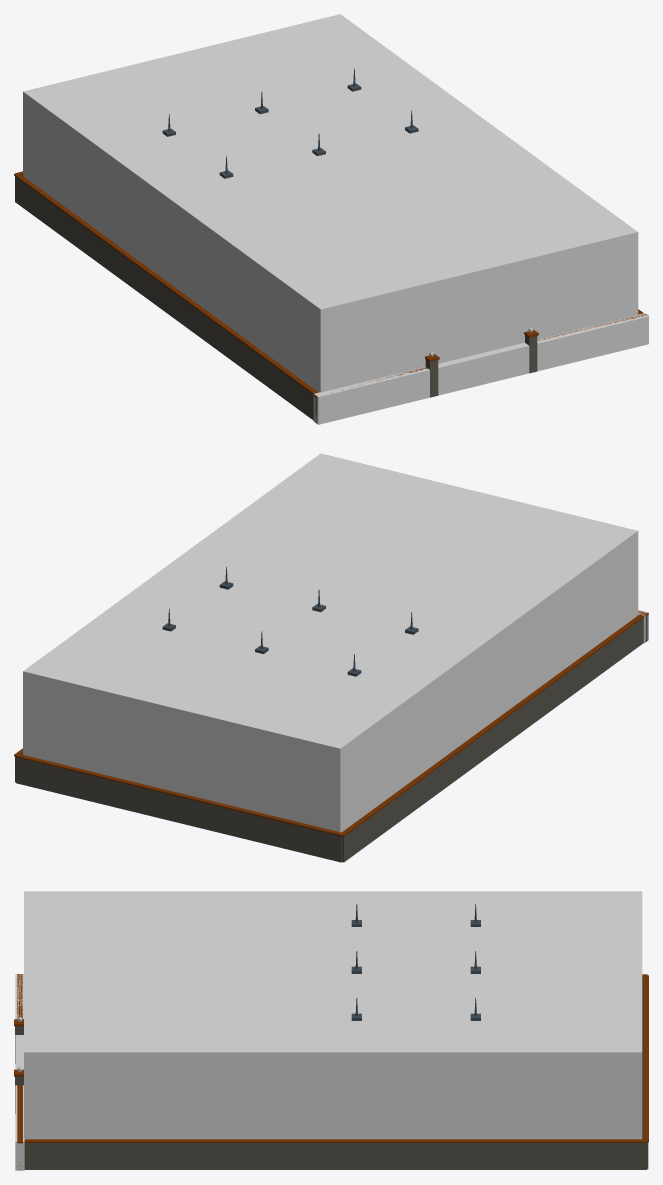
The model's file is B24_substation.glb.
The picture shows the model from 3 angles, top to bottom: view 1: azimuth 30°, elevation 25°; view 2: azimuth 150°, elevation 25°; view 3: azimuth 270°, elevation 25°; orthographic projection. The views are drawn at different scales.
Visible parts, largest first — view 1: COL_Main, LOD0, COL_Compound; view 2: COL_Main, LOD0; view 3: COL_Main, LOD0, COL_Compound.
Part boxes in pixels (box(x1,y1,x2,y2)): COL_Main: box(23, 14, 638, 392); LOD0: box(14, 68, 648, 423); COL_Compound: box(313, 313, 648, 424); COL_Main: box(23, 453, 638, 832); LOD0: box(14, 566, 648, 862); COL_Main: box(24, 891, 642, 1139); LOD0: box(14, 904, 648, 1169); COL_Compound: box(15, 974, 24, 1170).
Size of what is drawn, in the model's own units: 25.08 by 9.45 by 40.06.
